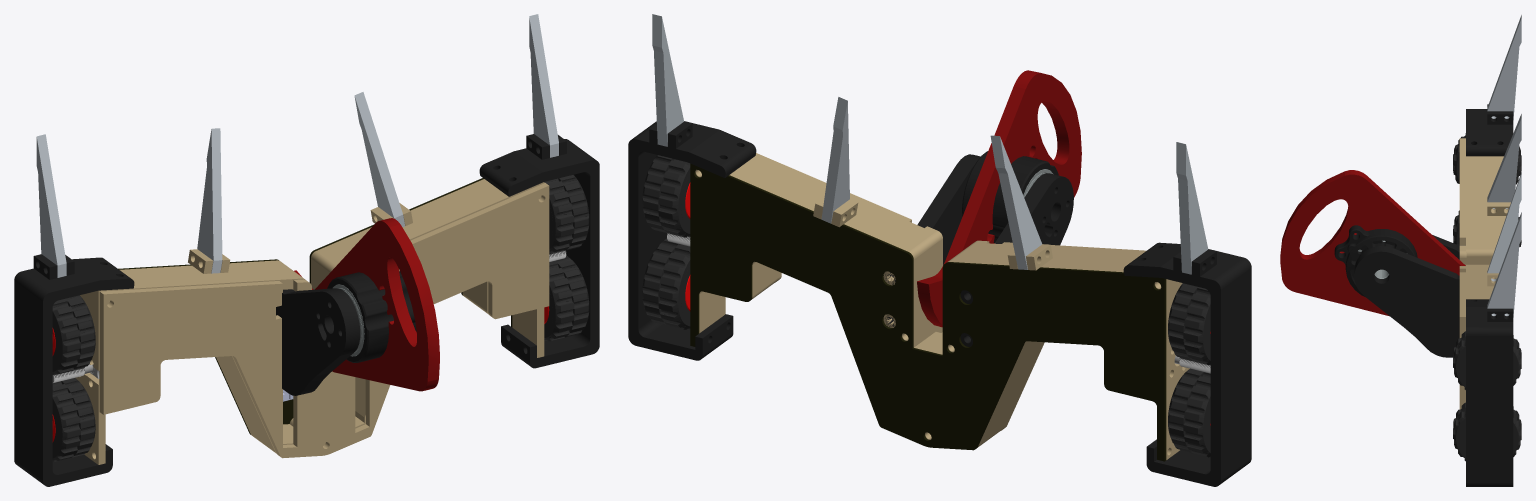
The model's file is kitt-v23.glb.
3 views of the same model, side by side, from view 1: azimuth 30°, elevation 25°; view 2: azimuth 150°, elevation 25°; view 3: azimuth 270°, elevation 25° (orthographic). The views are drawn at different scales.
Bounding box in the file's own units: 234 × 141 × 107.
